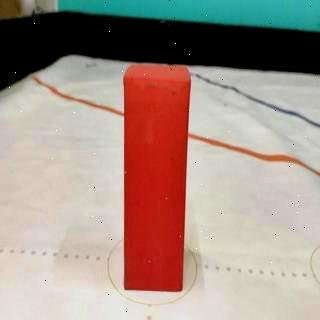redbox: (122, 63, 192, 292)
